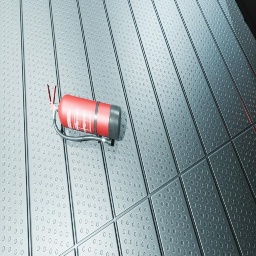FireExtinguisher ]: (47, 84, 121, 146)
